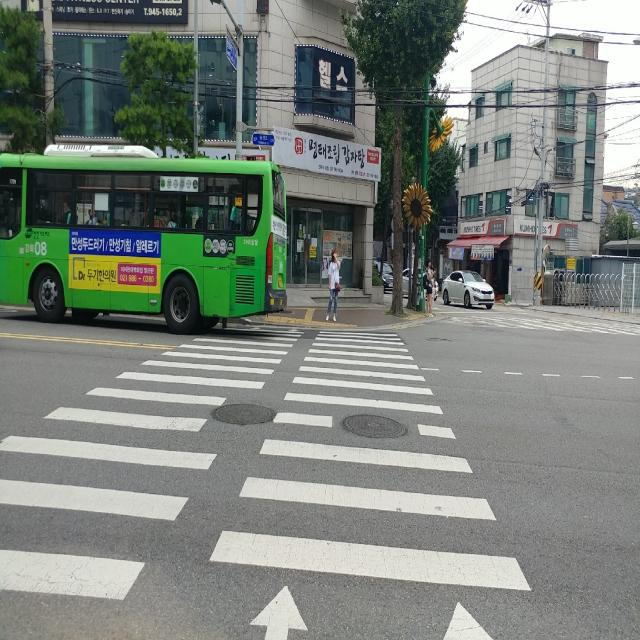횡단보도: (0, 326, 534, 640), (457, 316, 627, 332)
